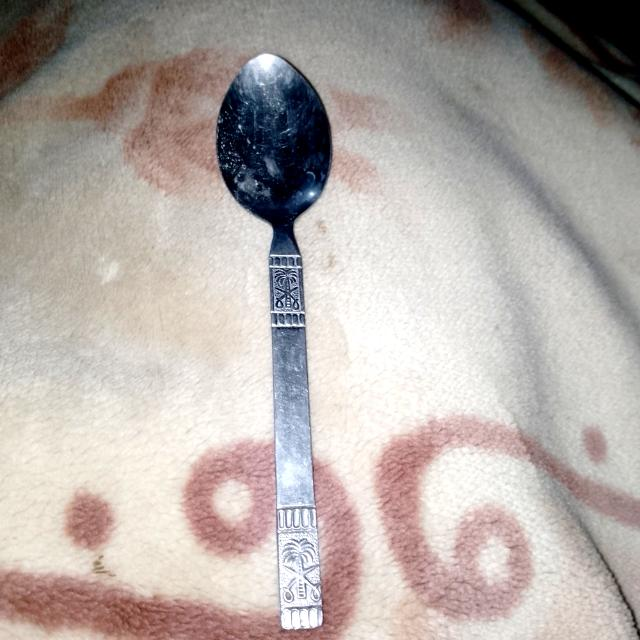Spoon: (217, 55, 330, 628)
